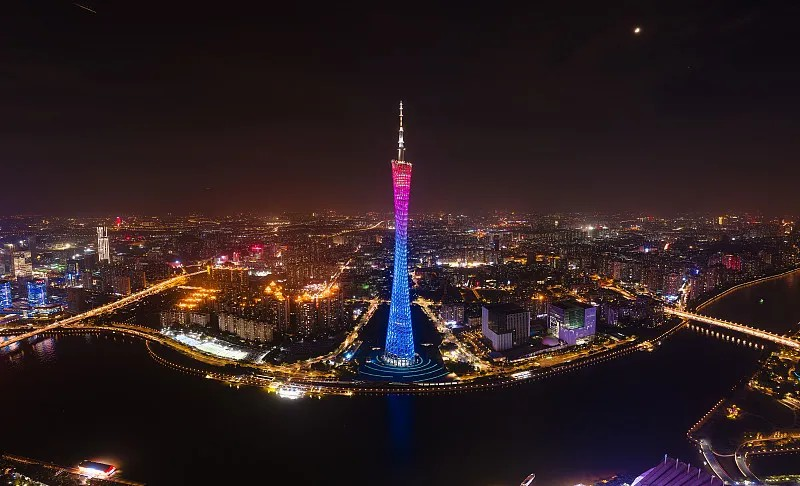Canton: (384, 100, 417, 364)
